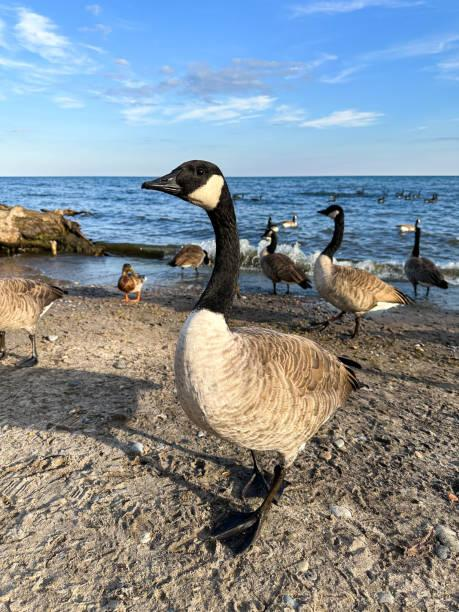Canadian-Goose: (140, 154, 360, 556), (308, 198, 400, 319), (397, 212, 454, 296), (257, 224, 305, 296)
